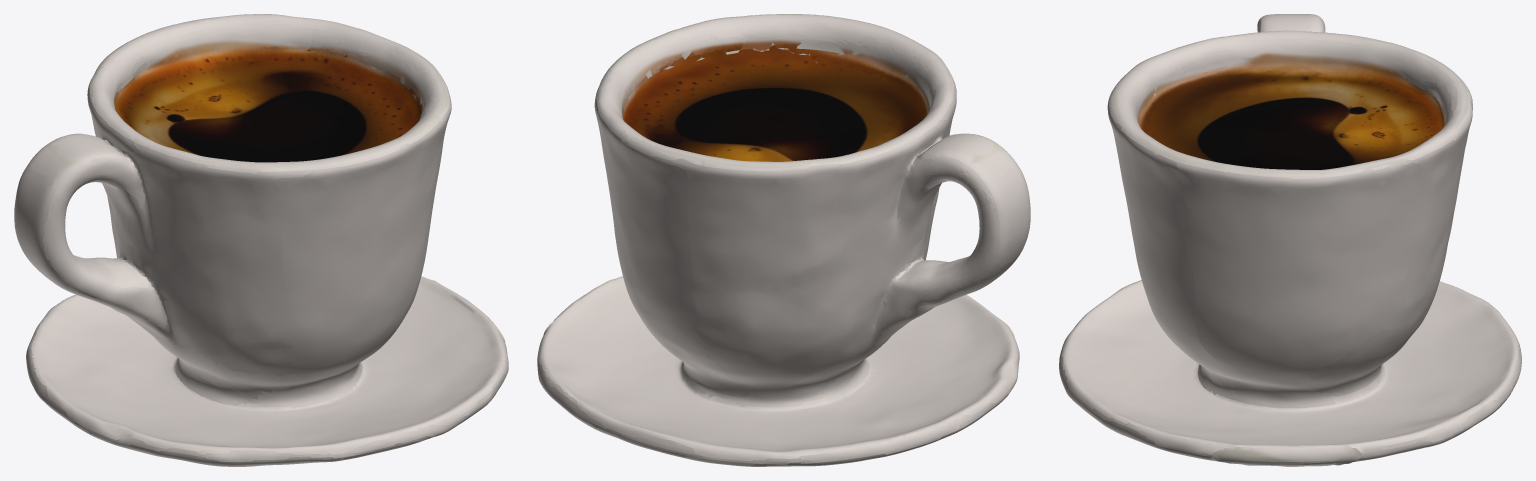
Rendered from rebecca.glb.
The picture shows the model from 3 angles, left to right: view 1: azimuth 30°, elevation 25°; view 2: azimuth 150°, elevation 25°; view 3: azimuth 270°, elevation 25°; orthographic projection. The views are drawn at different scales.
Parts seen in each view (by area): view 1: tmpf6upcslw.ply; view 2: tmpf6upcslw.ply; view 3: tmpf6upcslw.ply.
Boxes of the visible parts, bbox=[...] form: tmpf6upcslw.ply: bbox=[14, 14, 508, 466]; tmpf6upcslw.ply: bbox=[537, 14, 1030, 466]; tmpf6upcslw.ply: bbox=[1059, 14, 1521, 466].
Size of the model in its own units: 1.96 by 1.26 by 1.8.
1 material, 1 textured.
